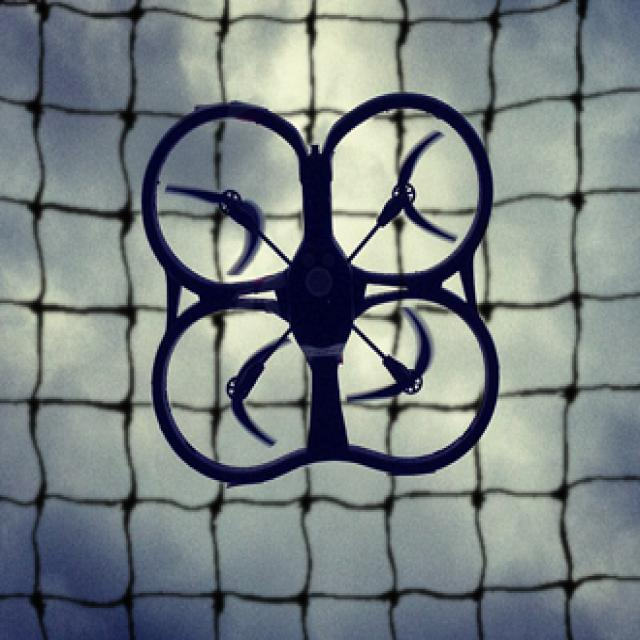drone: (124, 102, 514, 478)
